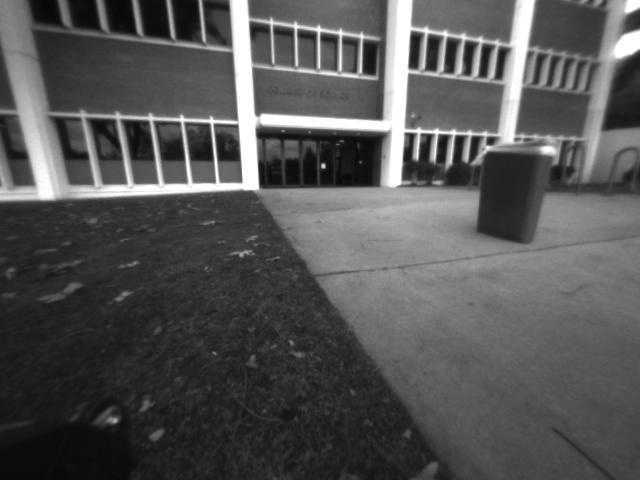trashcan: (471, 135, 562, 248)
